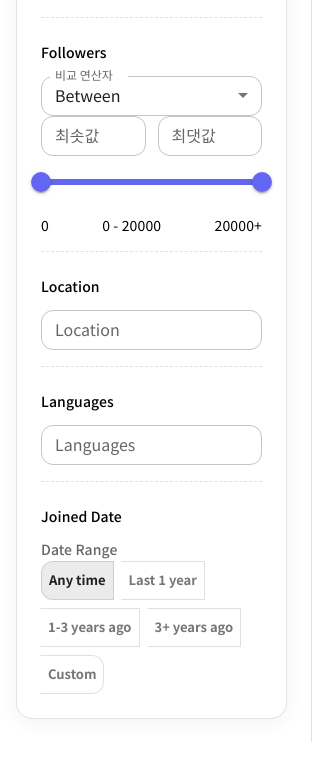
GitHub Search E2E › Advanced Filters › filters by joined date
(page scrolled)
Expected: the heading "Joined Date" is shown, [41,505,122,527]
Click the button "Custom".
click(73, 675)  # box [40,655,105,694]
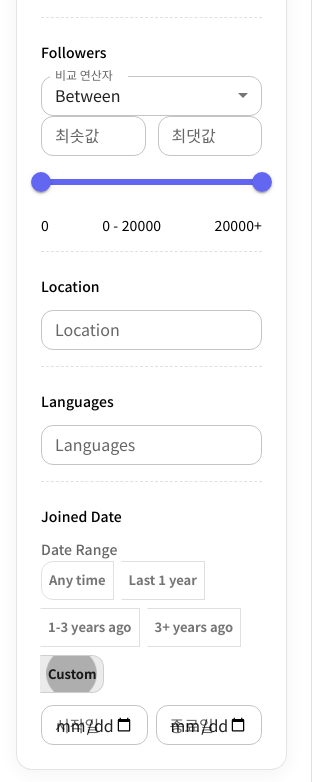
Now the number of date fields is at least 1
